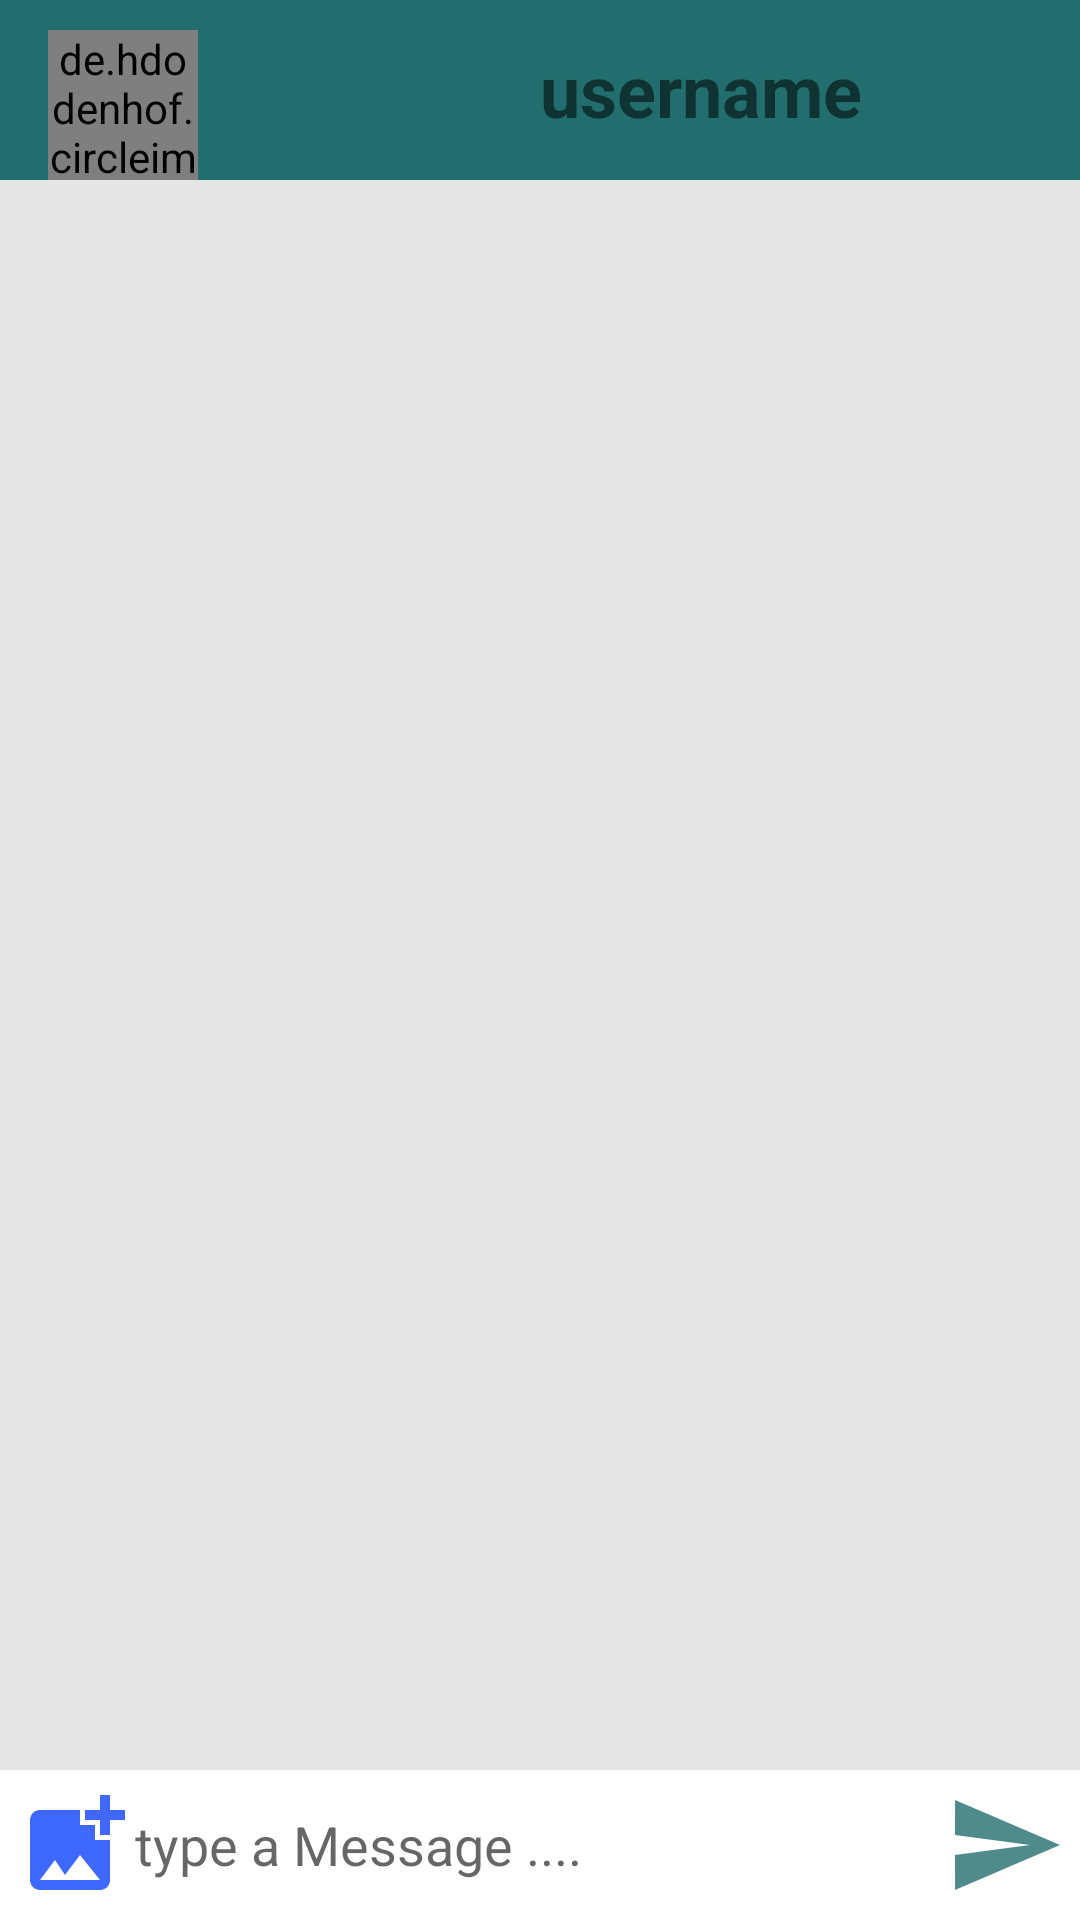

Icons on this 1080×1920 Android screen, each with the point to tap as (x=x, y=y):
add photo alternate: (x=77, y=1842)
